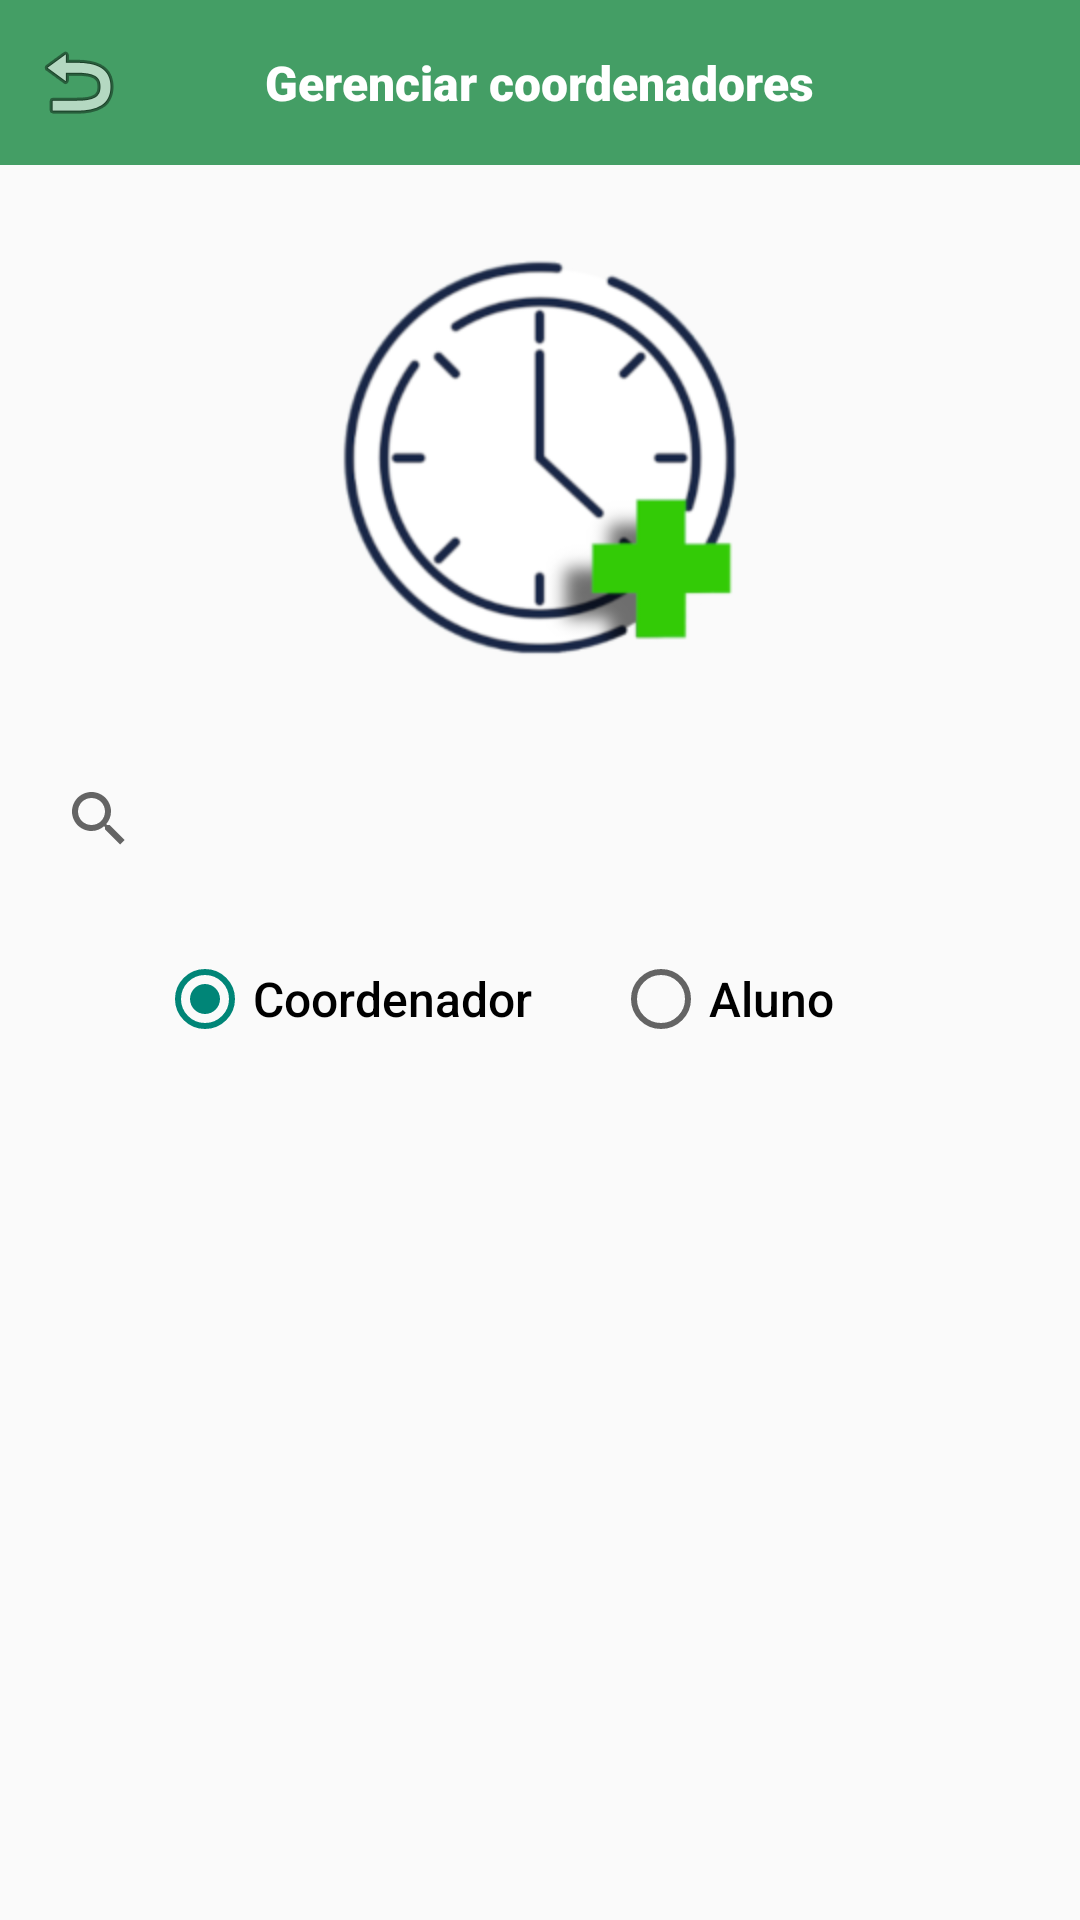

Screen size 1080×1920. Icon name, then its box in pixels as Rect(x1, y1, x2, y2):
revert: Rect(45, 52, 114, 114)
